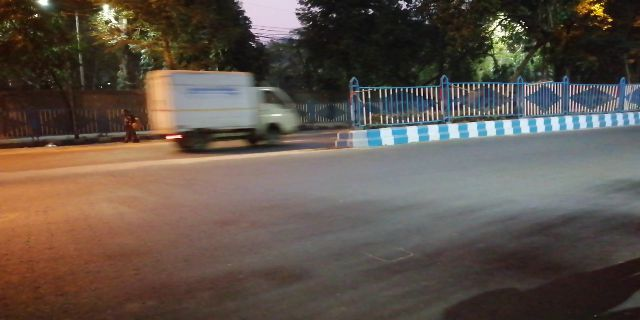Minitruck: (146, 64, 303, 145)
